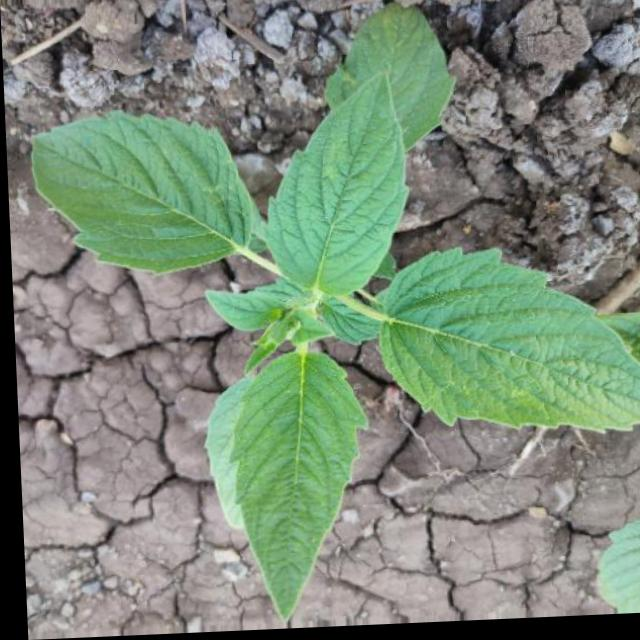crop: (18, 0, 640, 624)
